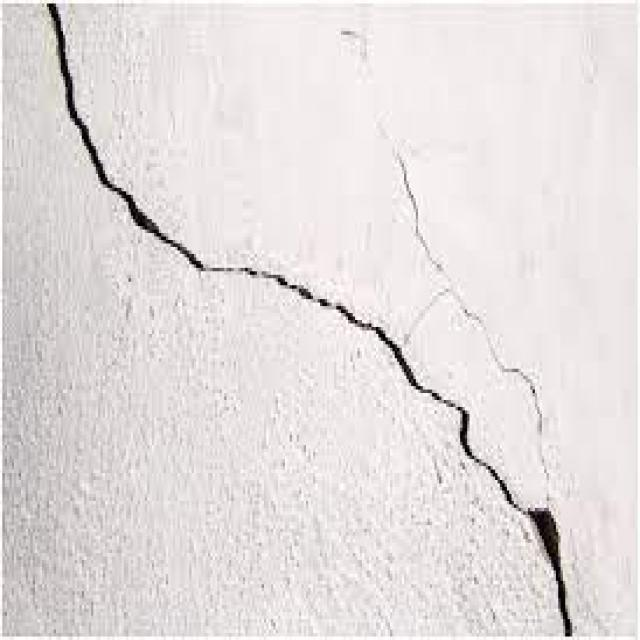Crack: (45, 0, 568, 633)
